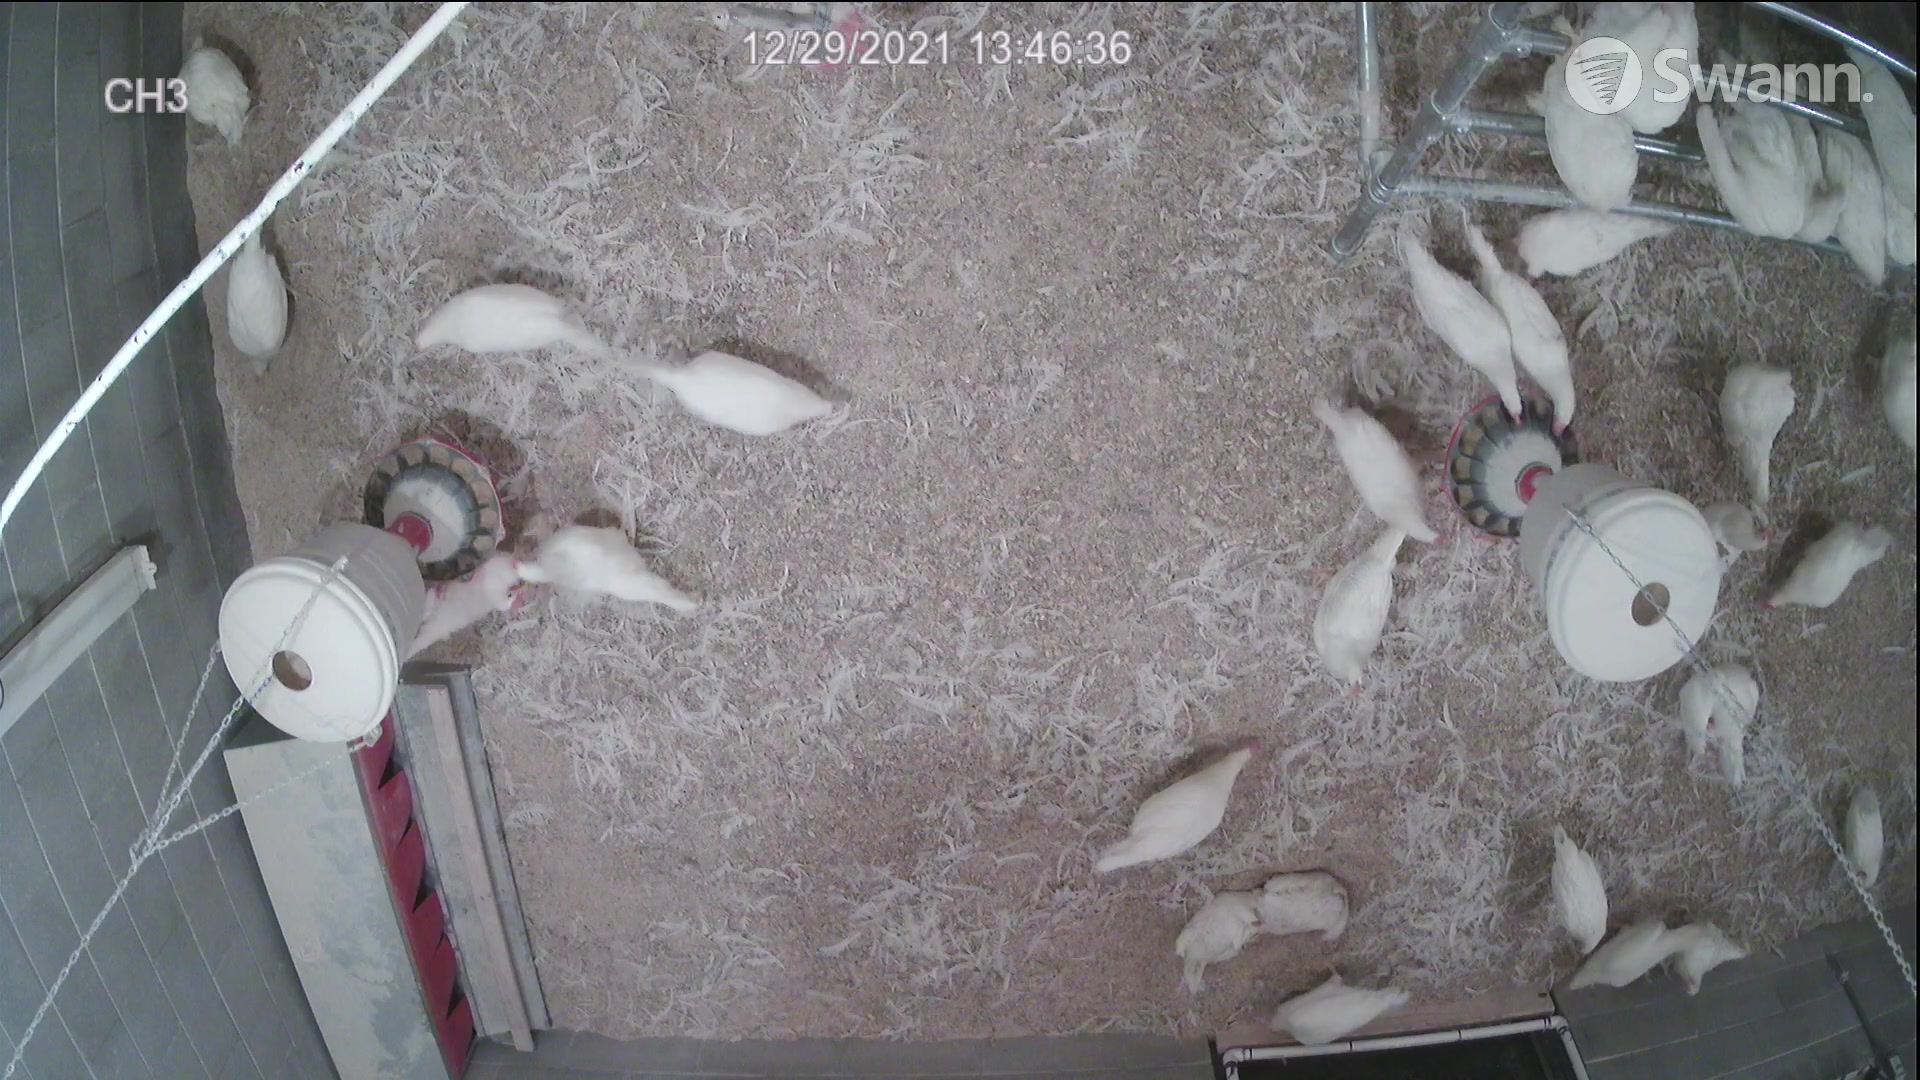Dust Bathing: (1265, 862, 1360, 956)
Feeding: (1462, 225, 1586, 458), (1408, 225, 1534, 448)
Foraging: (1105, 738, 1275, 884), (393, 277, 625, 377), (658, 338, 837, 448), (1774, 513, 1888, 629), (219, 219, 290, 393), (174, 29, 255, 138), (1553, 829, 1614, 956)
Perching: (1538, 54, 1636, 204), (1705, 103, 1808, 243), (1808, 112, 1888, 290), (1825, 40, 1916, 189), (1601, 3, 1691, 131)
Preening: (1665, 655, 1760, 794)
